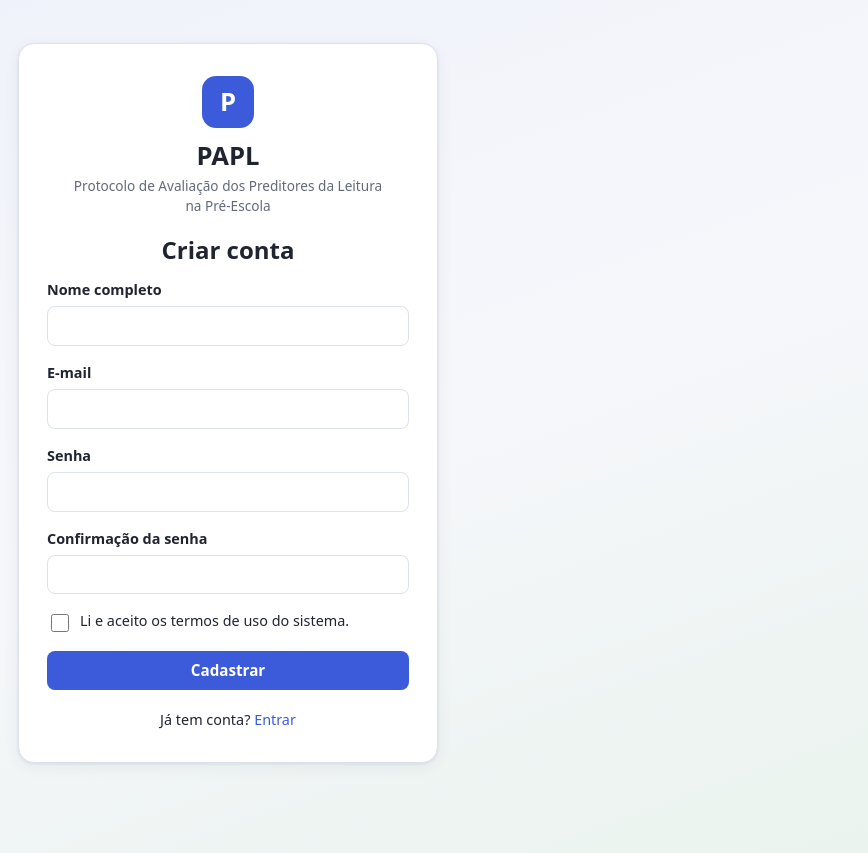
Test: RegisterPage › exibe erro de validação para senhas divergentes
Type "Maria Silva" into the field labelled "Nome completo". click: (228, 326)
box: [47,306,409,346]
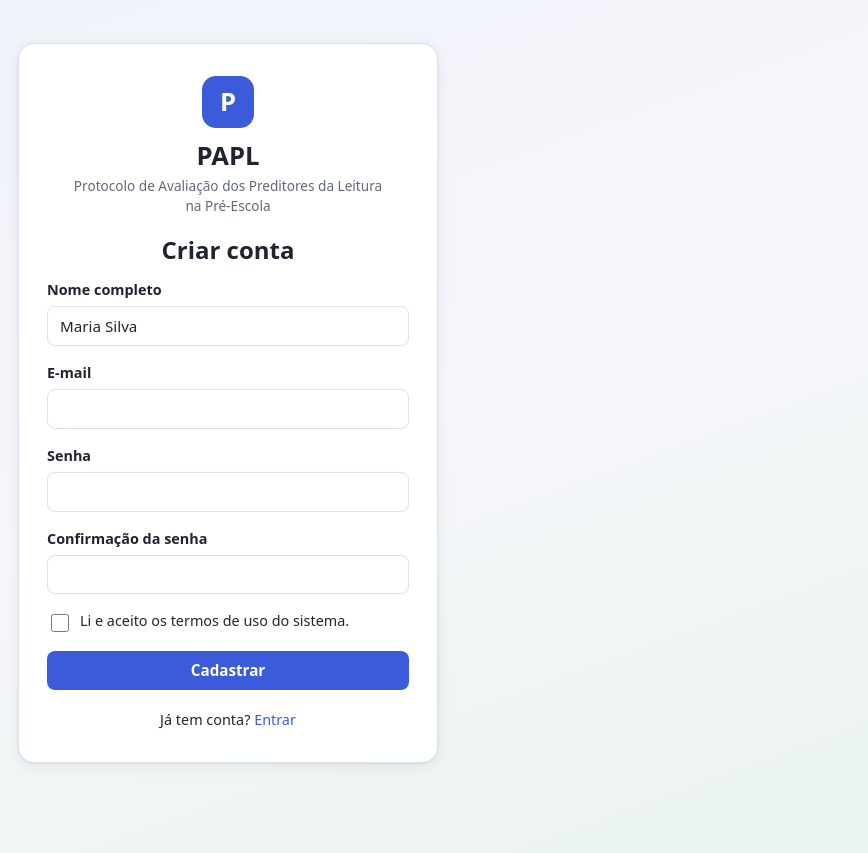
Type "maria@example.com" into the field labelled "E-mail". click: (228, 409)
box: [47,389,409,429]
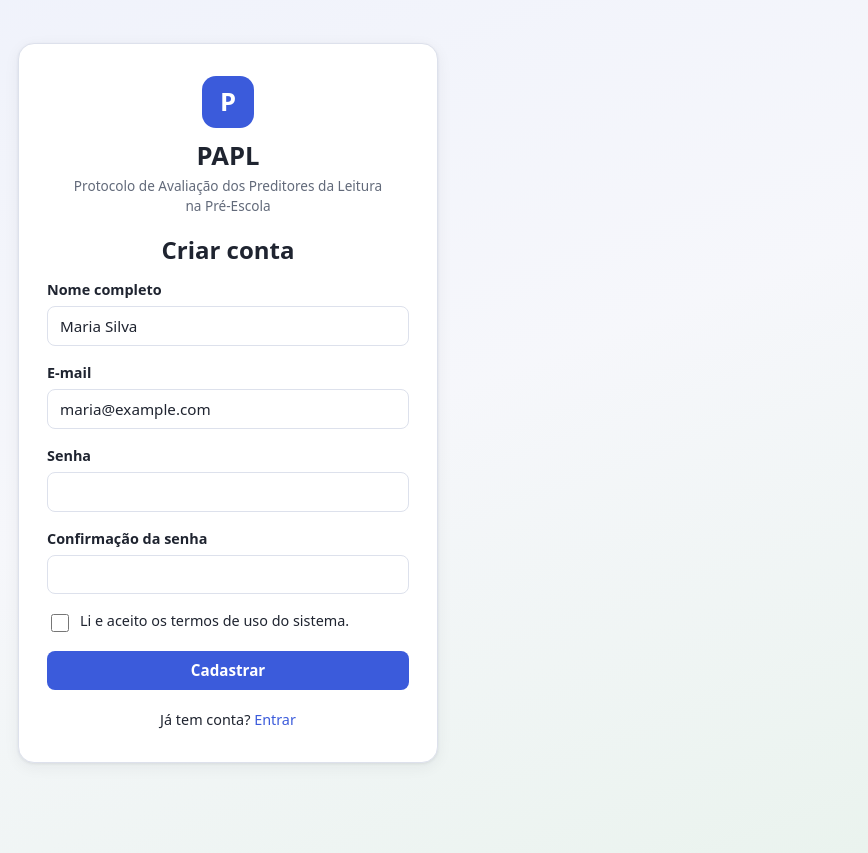
Type "Senha@123" into the password field labelled "Senha". click: (228, 492)
box: [47,472,409,512]
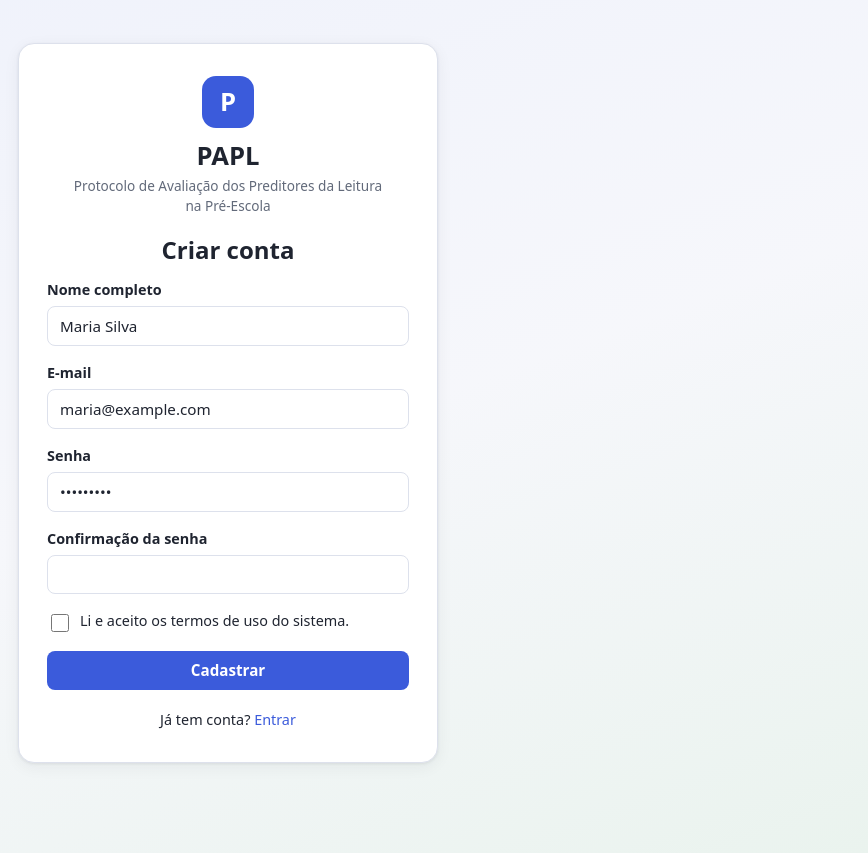
Type "Outra@123" into the password field labelled "Confirmação da senha". click: (228, 575)
box: [47,555,409,594]
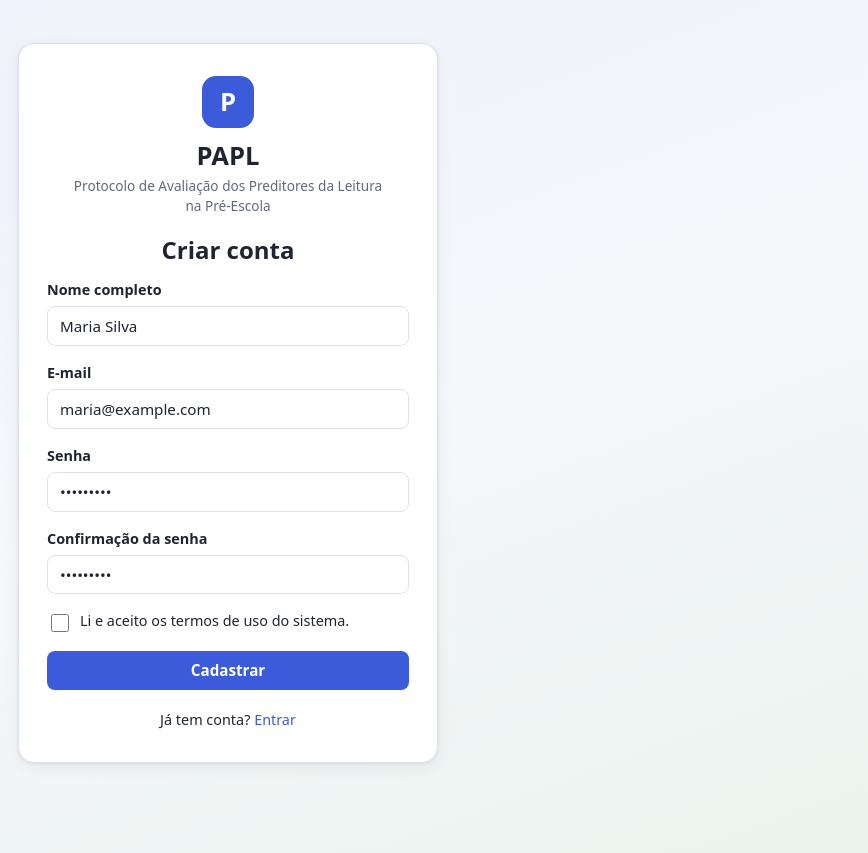
Click the button "Cadastrar". click: (228, 670)
box: [47,651,409,690]
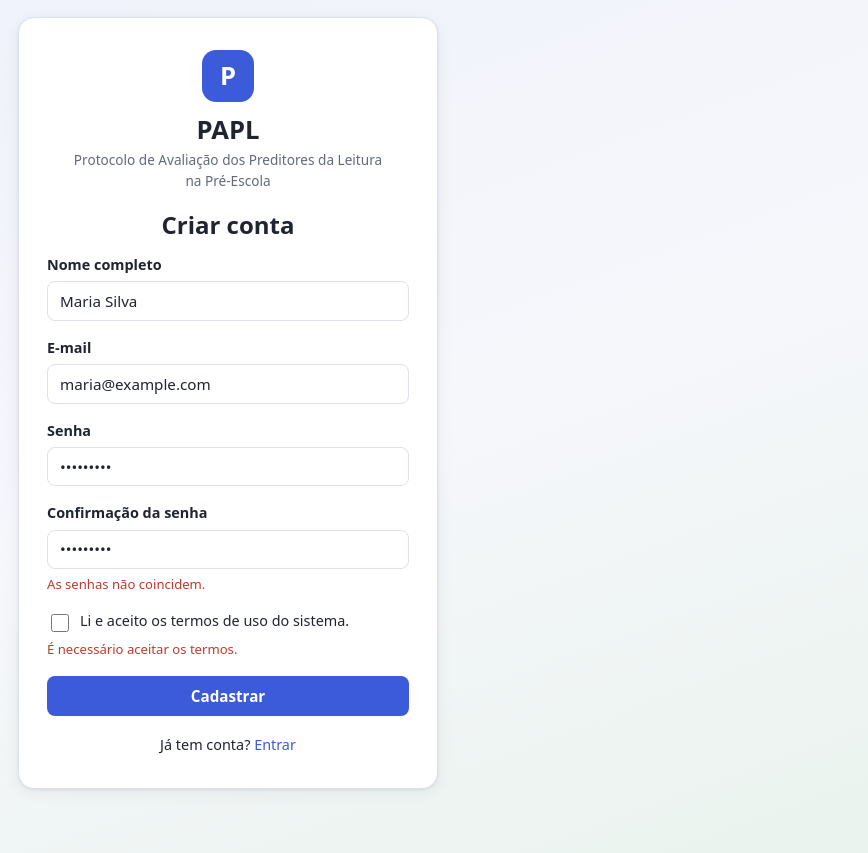
Result: the text "As senhas não coincidem." is shown at [47,575,205,593]
